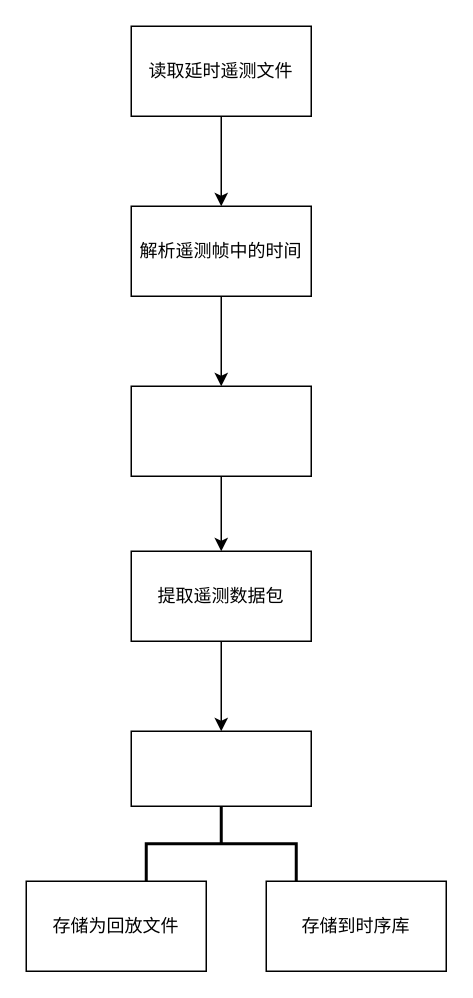
The diagram is 473 pixels wide and 998 high, and some of its shapes have lost their labels. Here are the shapes that lost their labels. From the top down, the box of each, then its label:
(130, 385, 311, 476): 获取遥测帧数据域
(130, 730, 311, 806): 解析包参数
